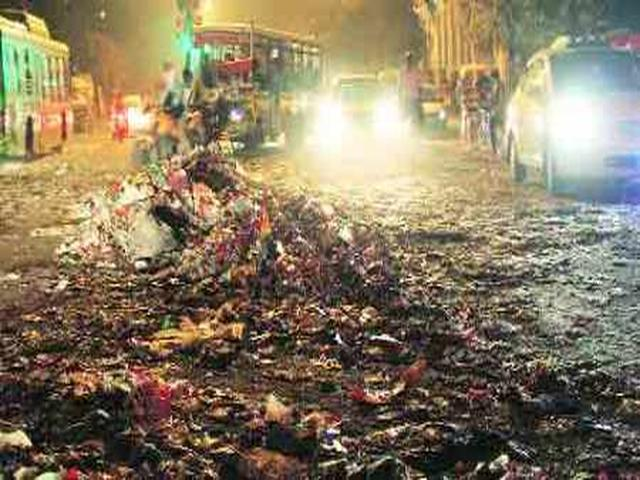garbage: (103, 176, 635, 455)
